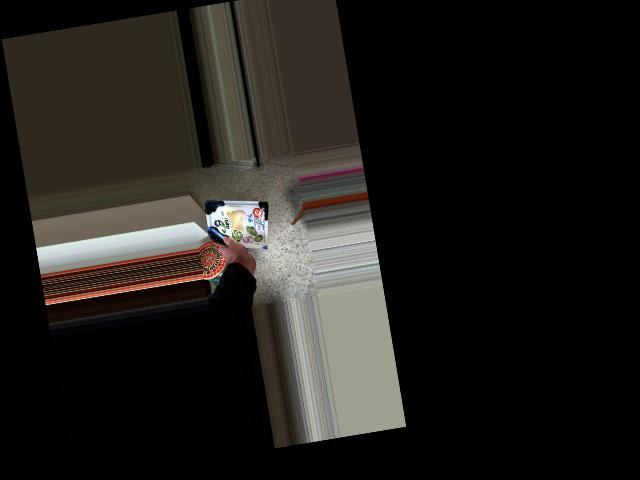cheese: (216, 208, 270, 264)
